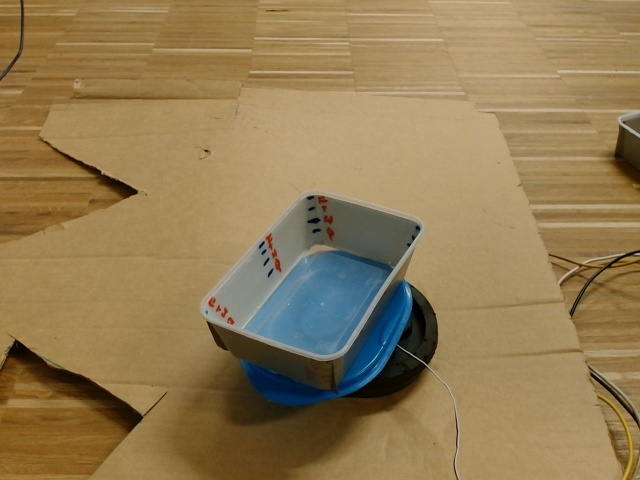Small_zero: (200, 188, 422, 357)
